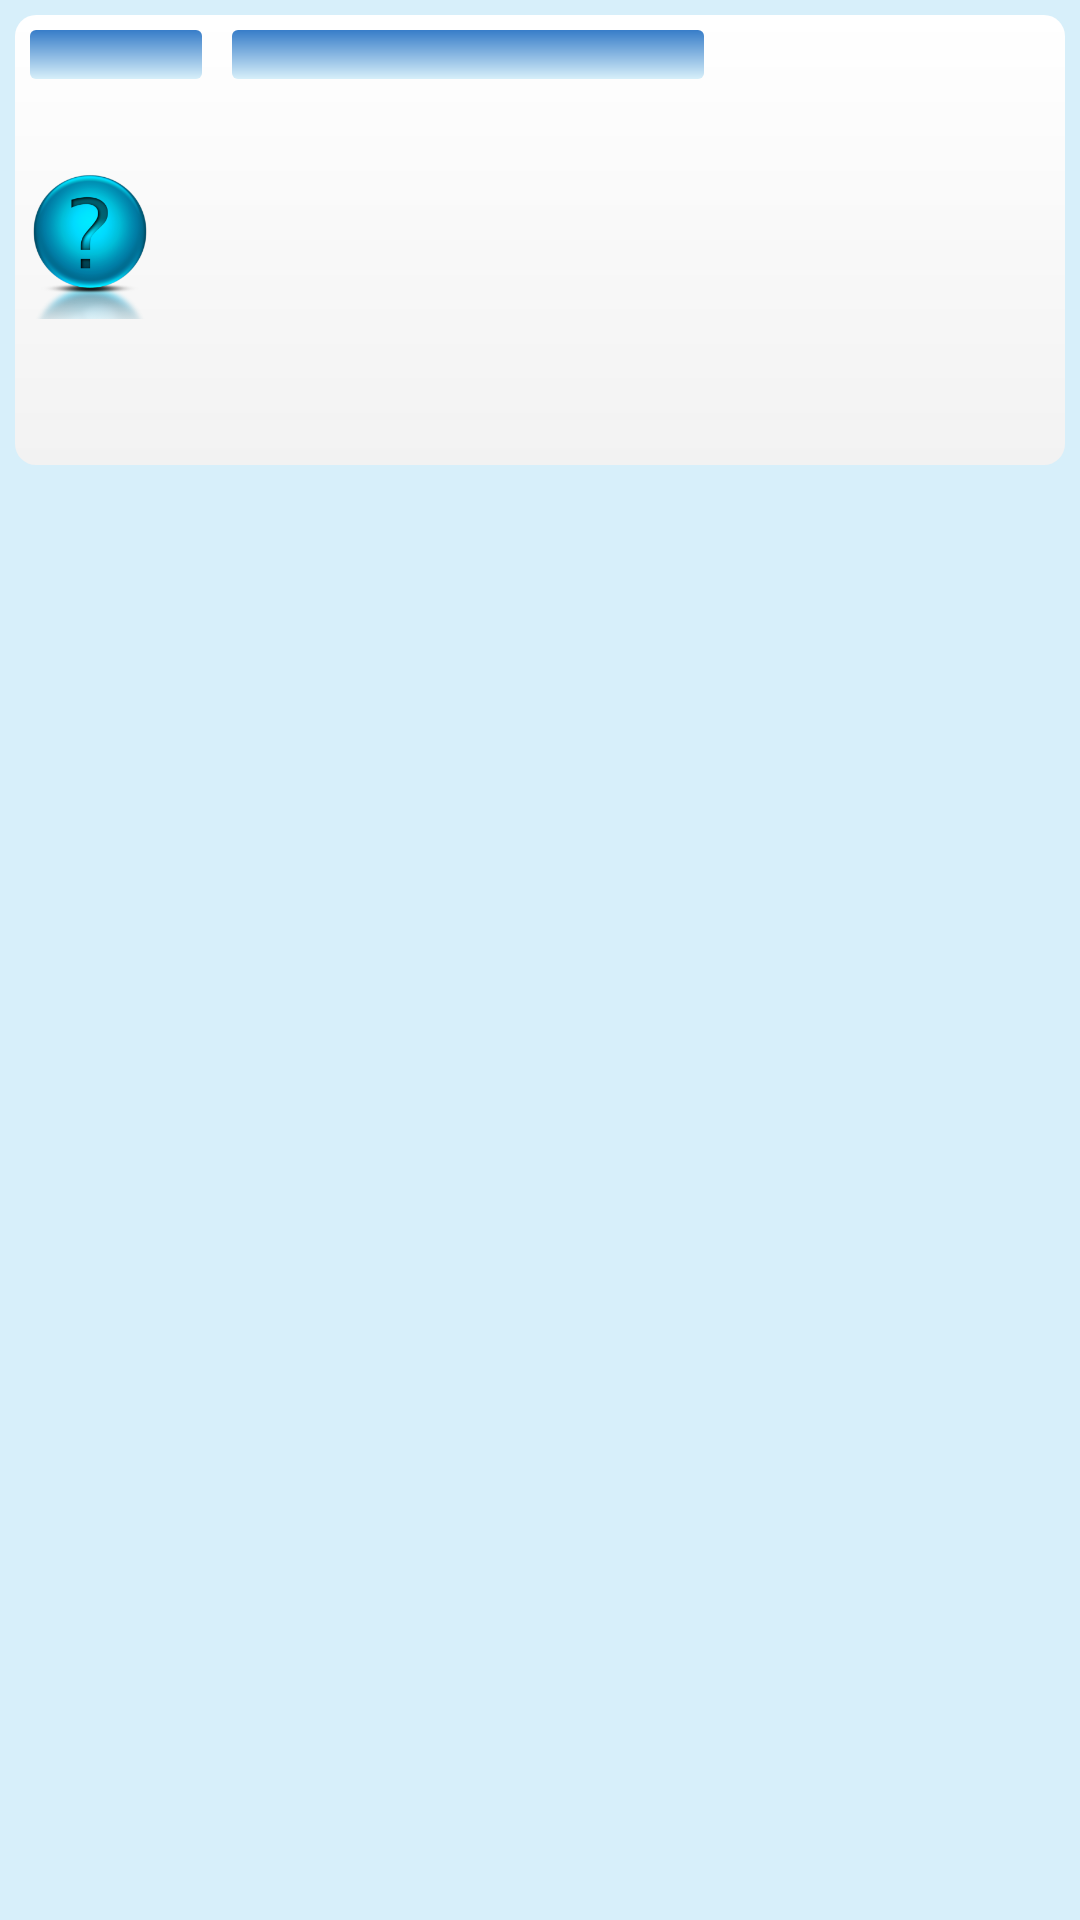

Icons on this 1080px x 1920px Android screen, each with the point to tap as (x=x, y=y):
questionicon: (x=90, y=247)
